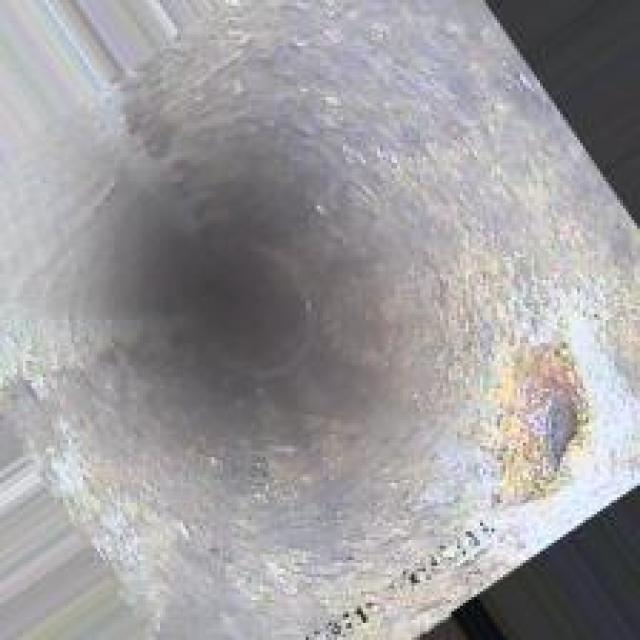ferrule: (497, 349, 594, 497)
